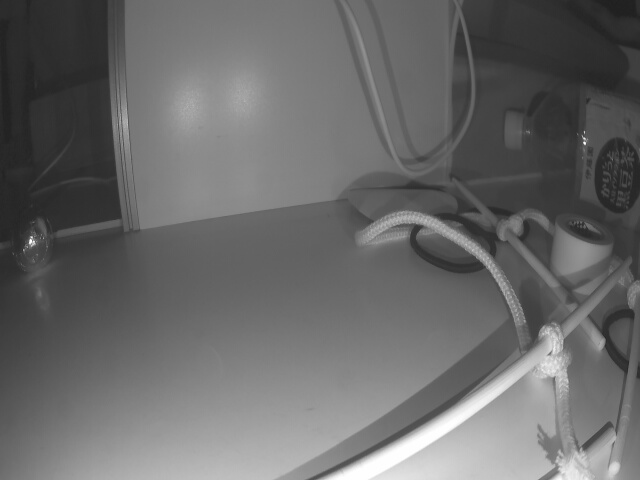Live: (6, 215, 59, 278)
